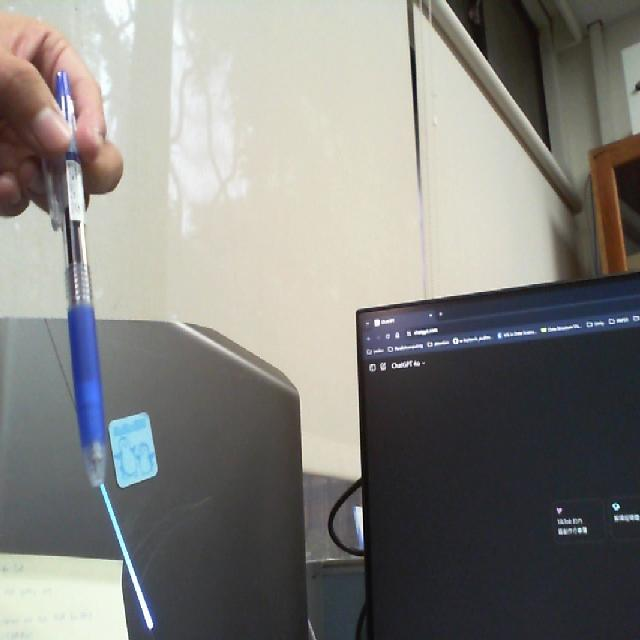Pen: (27, 58, 134, 506)
